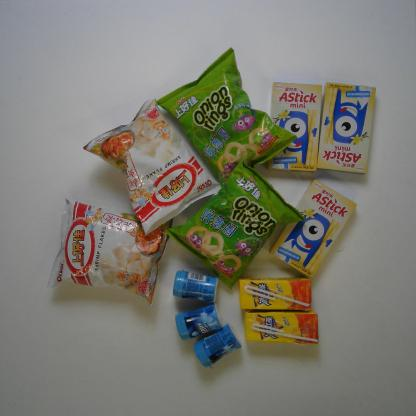Dessert: (268, 178, 358, 280), (316, 78, 378, 176), (265, 81, 324, 173)
Drink: (237, 274, 315, 312), (242, 309, 321, 346)
Gum: (192, 322, 243, 369), (174, 301, 224, 342), (172, 269, 219, 304)
Puffed Food: (155, 46, 298, 189), (82, 97, 222, 236), (166, 156, 308, 290), (44, 196, 174, 307)
